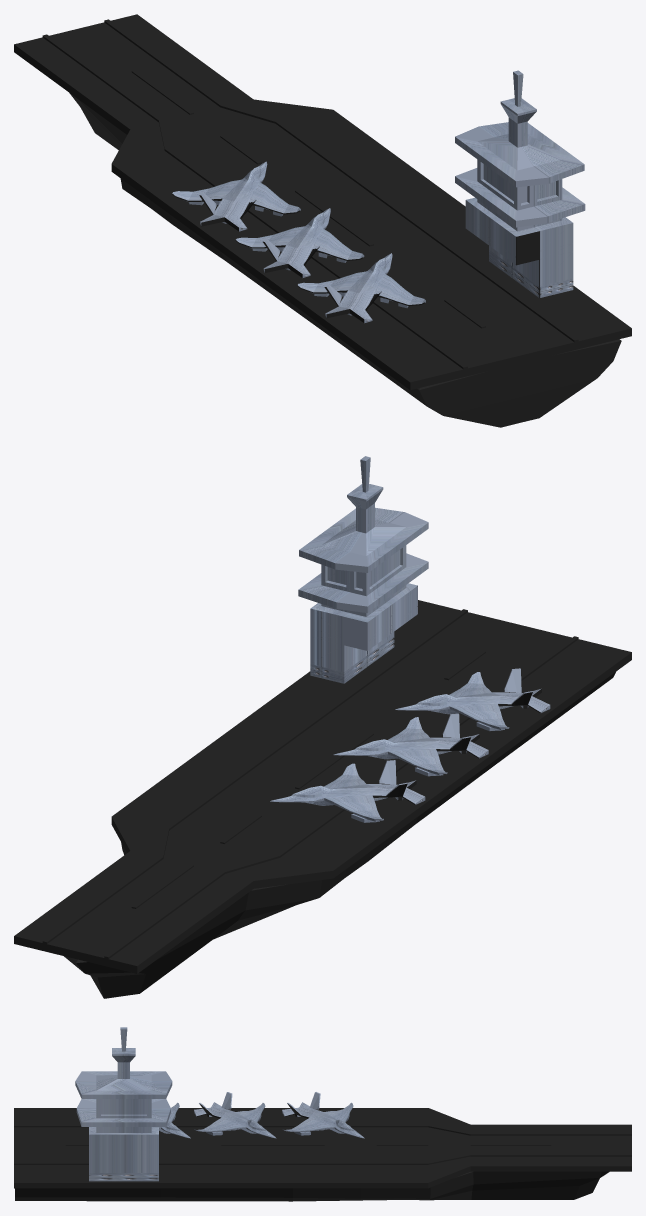
The model's file is AircraftCarrier.obj.
3 renders of one model, top to bottom at view 1: azimuth 30°, elevation 25°; view 2: azimuth 150°, elevation 25°; view 3: azimuth 270°, elevation 25°, orthographic. The views are drawn at different scales.
Parts seen in each view (by area): view 1: Cube; view 2: Cube; view 3: Cube.
Boxes of the visible parts, left/top/right/bottom form: Cube: left=14, top=14, right=631, bottom=427; Cube: left=14, top=456, right=631, bottom=998; Cube: left=14, top=1027, right=631, bottom=1201.
Size of the model in its own units: 4.49 by 5.25 by 15.42.
